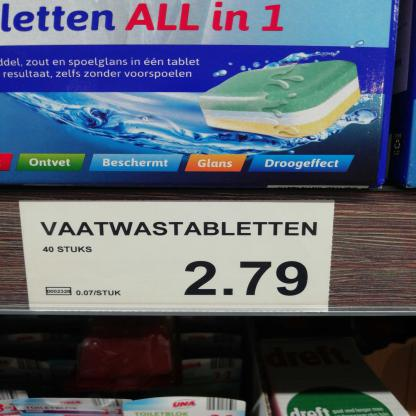prtg: (20, 201, 336, 313)
